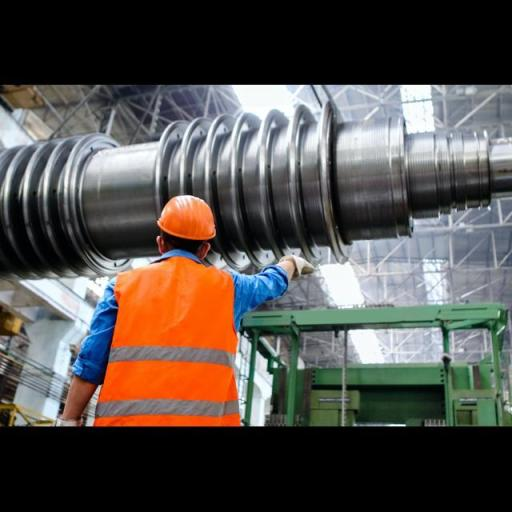Person: (48, 185, 332, 436)
gloves: (275, 244, 321, 282), (51, 410, 88, 426)
helmet: (150, 188, 224, 242)
vest: (94, 256, 250, 428)
